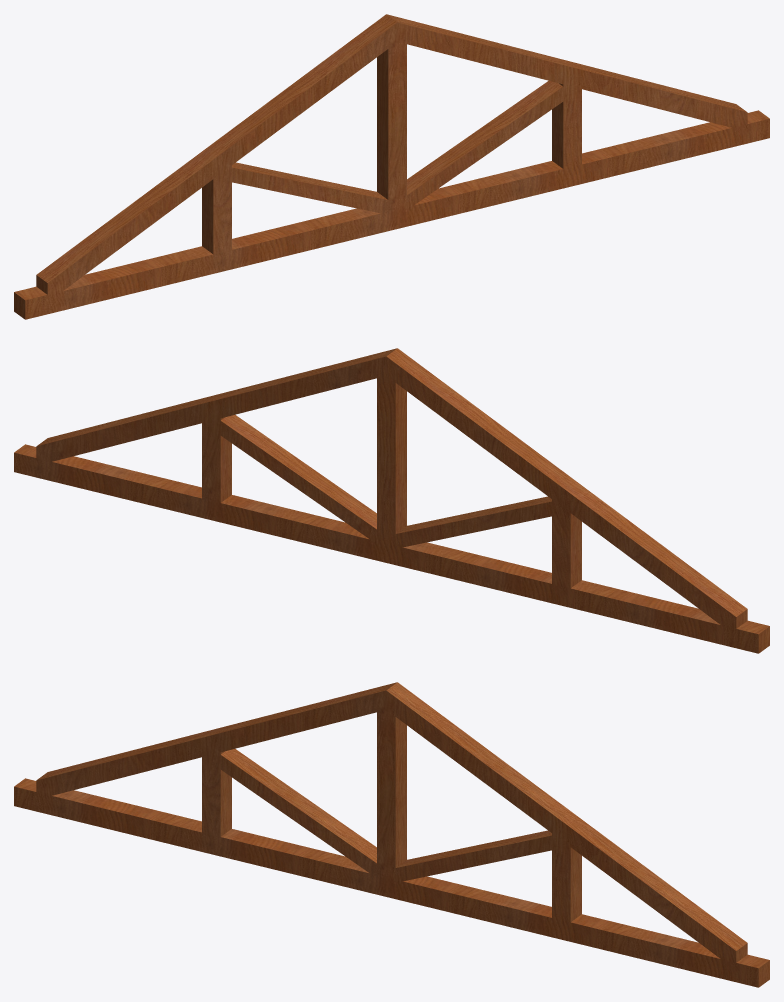
File: timber.glb
The picture shows the model from 3 angles, top to bottom: view 1: azimuth 30°, elevation 25°; view 2: azimuth 150°, elevation 25°; view 3: azimuth 330°, elevation 25°; orthographic projection.
Parts seen in each view (by area): view 1: 木屋架; view 2: 木屋架; view 3: 木屋架.
Boxes of the visible parts, x1,y1,x2,y2 form: 木屋架: [14, 14, 769, 319]; 木屋架: [14, 348, 769, 653]; 木屋架: [14, 682, 769, 987].
Size of the model in its own units: 9.14 by 2.42 by 0.24.
1 material, 1 textured.
